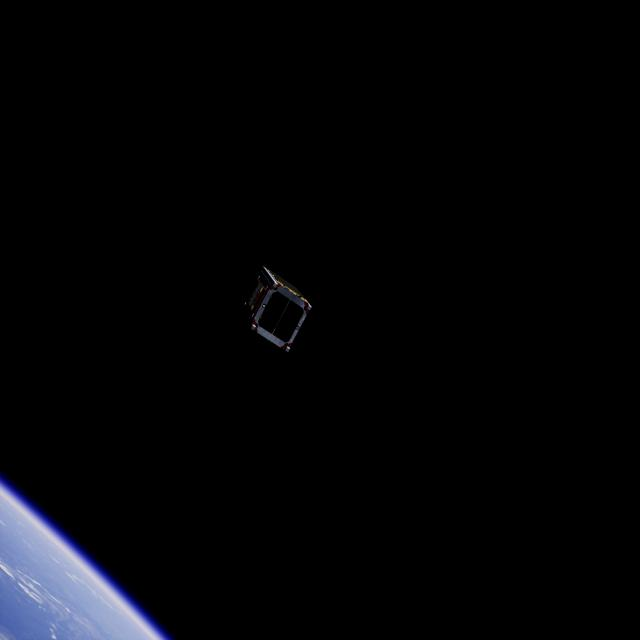satellite: (233, 261, 310, 358)
